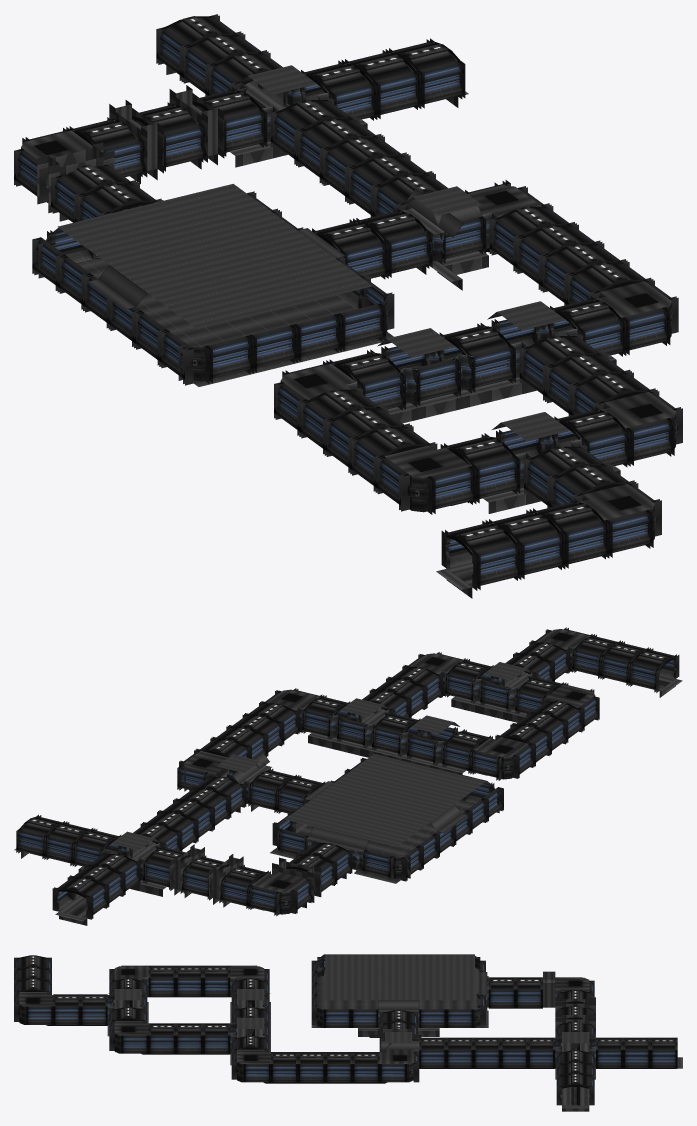
File: Map One.obj
3 renders of one model, top to bottom at view 1: azimuth 30°, elevation 25°; view 2: azimuth 150°, elevation 25°; view 3: azimuth 270°, elevation 25°, orthographic. The views are drawn at different scales.
Visible parts, largest first — view 1: Cube.008_Cube.019, Cube.015_Cube.076, Cube.060_Cube.124, Cube.161_Cube.208, Cube.059_Cube.123, Cube.142_Cube.189, Plane.029_Plane.041, Cube.172_Cube.218, Cube.113_Cube.055, Cube.009_Cube.027, Cube.003_Cube.008, Cube.074_Cube.138 (+86 smaller); view 2: room_ceilingConnector.003_Cube.171, Cube.116_Cube.058, Cube.160_Cube.207, Cube.070_Cube.134, Cube.141_Cube.188, Cube.007_Cube.016, Cube.143_Cube.190, Cube.050_Cube.096, Cube.020_Cube.003, Cube.036_Cube.111, Plane.048_Plane.060, Cube.025_Cube.031 (+60 smaller); view 3: Cube.035_Cube.089, Cube.033_Cube.087, Cube.030_Cube.084, Cube.169_Cube.213, Cube.131_Cube.178, Cube.129_Cube.176, Cube.127_Cube.174, Cube.108_Cube.018, Cube.107_Cube.017, Cube.106_Cube.015, Cube.105_Cube.014, Cube.075_Cube.139 (+66 smaller).
Boxes of the visible parts, box(x1,y1,x2,y2) form: Cube.008_Cube.019: box(472, 542, 521, 590); Cube.015_Cube.076: box(427, 466, 476, 514); Cube.060_Cube.124: box(412, 358, 460, 406); Cube.161_Cube.208: box(218, 109, 267, 156); Cube.059_Cube.123: box(467, 345, 515, 393); Cube.142_Cube.189: box(157, 123, 206, 171); Plane.029_Plane.041: box(385, 445, 470, 477); Cube.172_Cube.218: box(416, 60, 465, 108); Cube.113_Cube.055: box(204, 335, 253, 383); Cube.009_Cube.027: box(516, 531, 565, 579); Cube.003_Cube.008: box(604, 510, 653, 557); Cube.074_Cube.138: box(621, 307, 670, 355); room_ceilingConnector.003_Cube.171: box(306, 826, 369, 852); Cube.116_Cube.058: box(362, 849, 393, 880); Cube.160_Cube.207: box(143, 859, 174, 890); Cube.070_Cube.134: box(301, 709, 332, 739); Cube.141_Cube.188: box(248, 885, 279, 916); Cube.007_Cube.016: box(628, 662, 659, 692); Cube.143_Cube.190: box(181, 869, 212, 899); Cube.050_Cube.096: box(470, 750, 501, 780); Cube.020_Cube.003: box(480, 681, 511, 711); Cube.036_Cube.111: box(407, 734, 438, 765); Plane.048_Plane.060: box(474, 737, 528, 757); Cube.025_Cube.031: box(445, 672, 476, 703); Cube.035_Cube.089: box(175, 977, 202, 996); Cube.033_Cube.087: box(148, 977, 175, 996); Cube.030_Cube.084: box(203, 977, 230, 996); Cube.169_Cube.213: box(650, 1049, 677, 1067); Cube.131_Cube.178: box(446, 1049, 473, 1067); Cube.129_Cube.176: box(488, 989, 515, 1007); Cube.127_Cube.174: box(515, 989, 542, 1007); Cube.108_Cube.018: box(446, 1009, 473, 1027); Cube.107_Cube.017: box(419, 1009, 446, 1027); Cube.106_Cube.015: box(324, 1009, 351, 1027); Cube.105_Cube.014: box(351, 1009, 378, 1027); Cube.075_Cube.139: box(325, 1064, 352, 1082).
Size of the model in its own units: 46.8 by 5.1 by 98.4.
